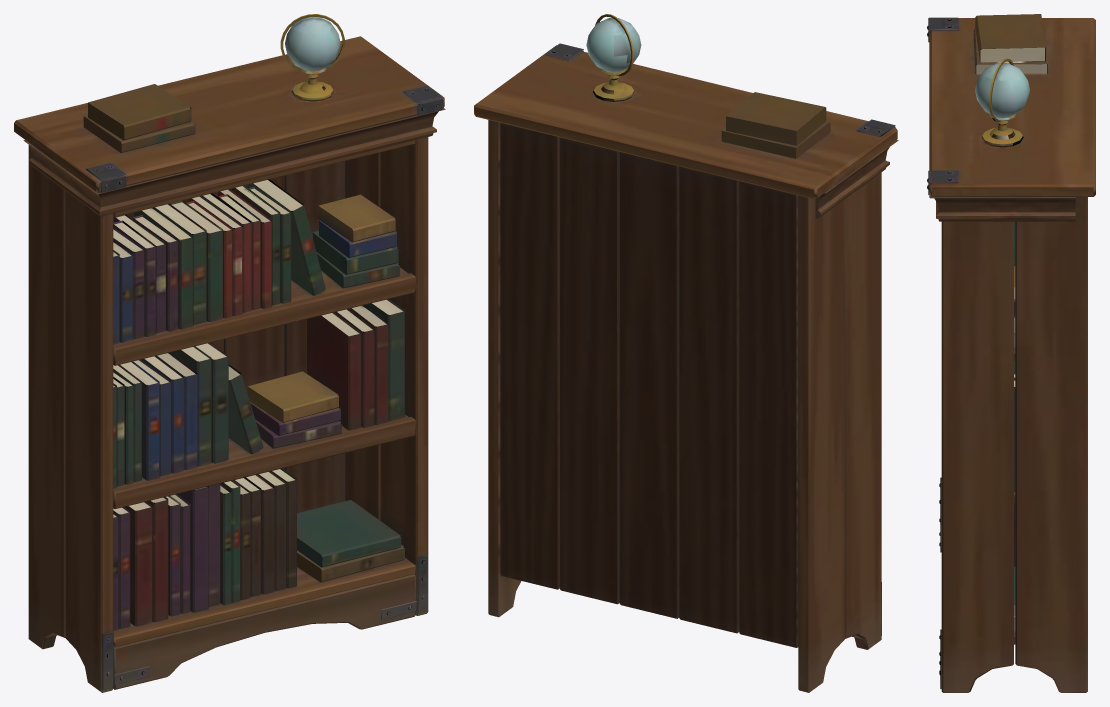
The model's file is bookshelf.glb.
3 renders of one model, left to right at view 1: azimuth 30°, elevation 25°; view 2: azimuth 150°, elevation 25°; view 3: azimuth 270°, elevation 25°, orthographic.
Visible parts, largest first — view 1: bookshelf; view 2: bookshelf; view 3: bookshelf.
Part boxes in pixels (bbox=[...]): bookshelf: bbox=[14, 14, 445, 692]; bookshelf: bbox=[474, 14, 898, 692]; bookshelf: bbox=[927, 14, 1095, 692].
Size of the model in its own units: 0.98 by 1.61 by 0.4159.
Materials: 1 (1 with a texture image).
